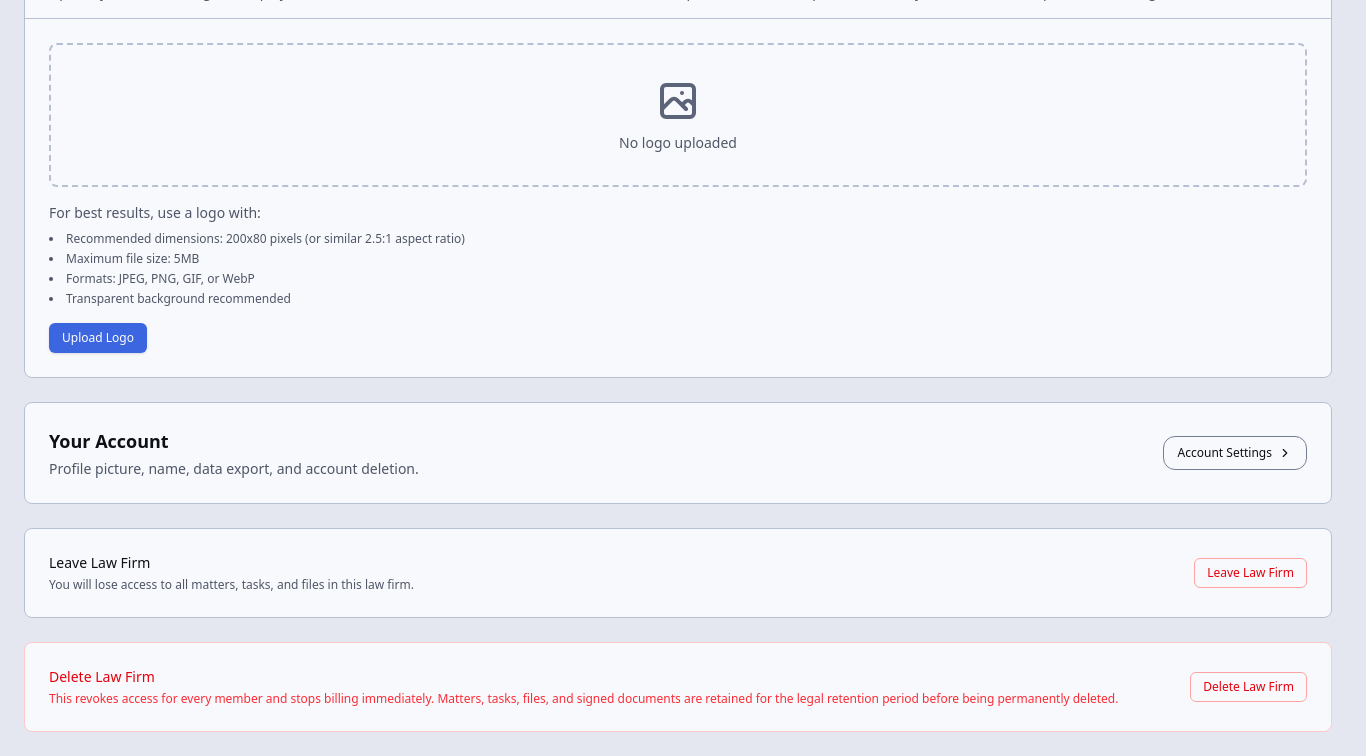
Test: shows a refused transfer inside the transfer dialog, which stays open
The image size is (1366, 756).
(page scrolled)
Click the button "Leave Law Firm": (1251, 573) [1194, 558, 1307, 588]
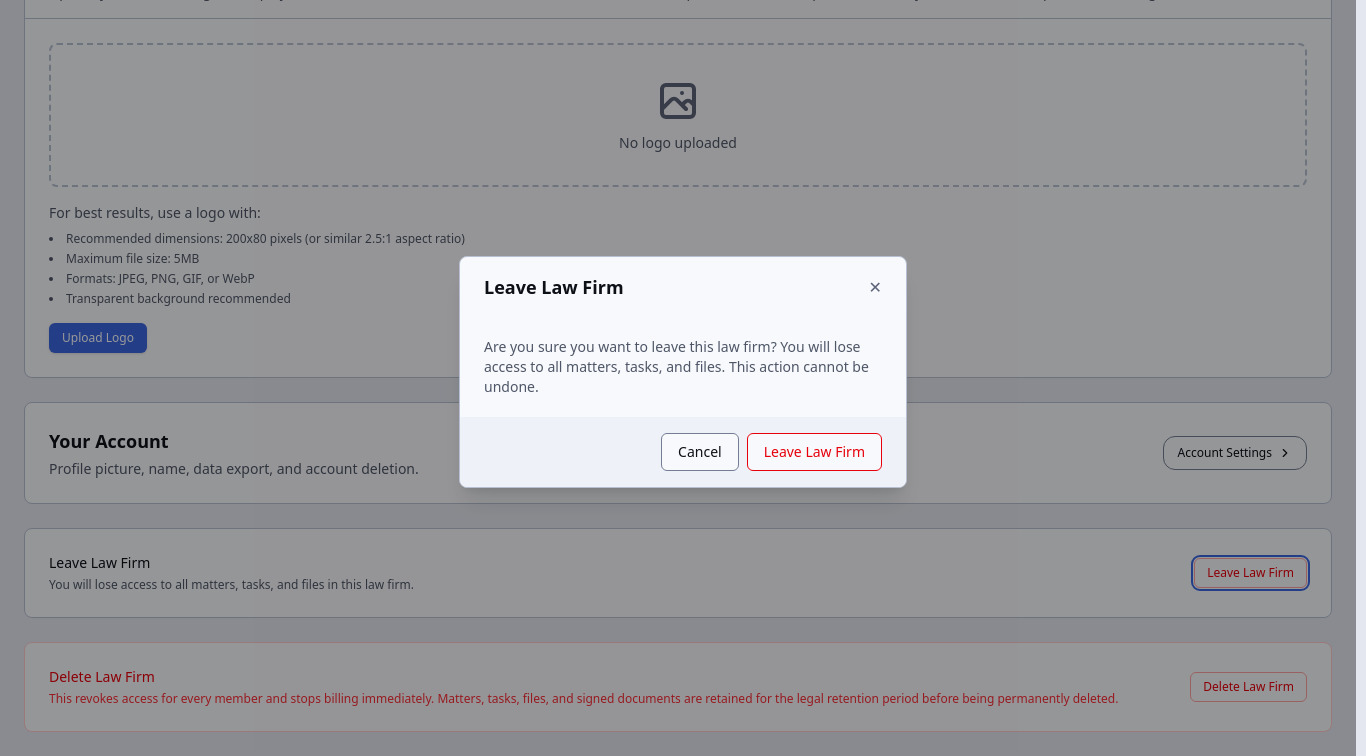
Click the button "Leave Law Firm": (814, 452) [747, 433, 882, 471]
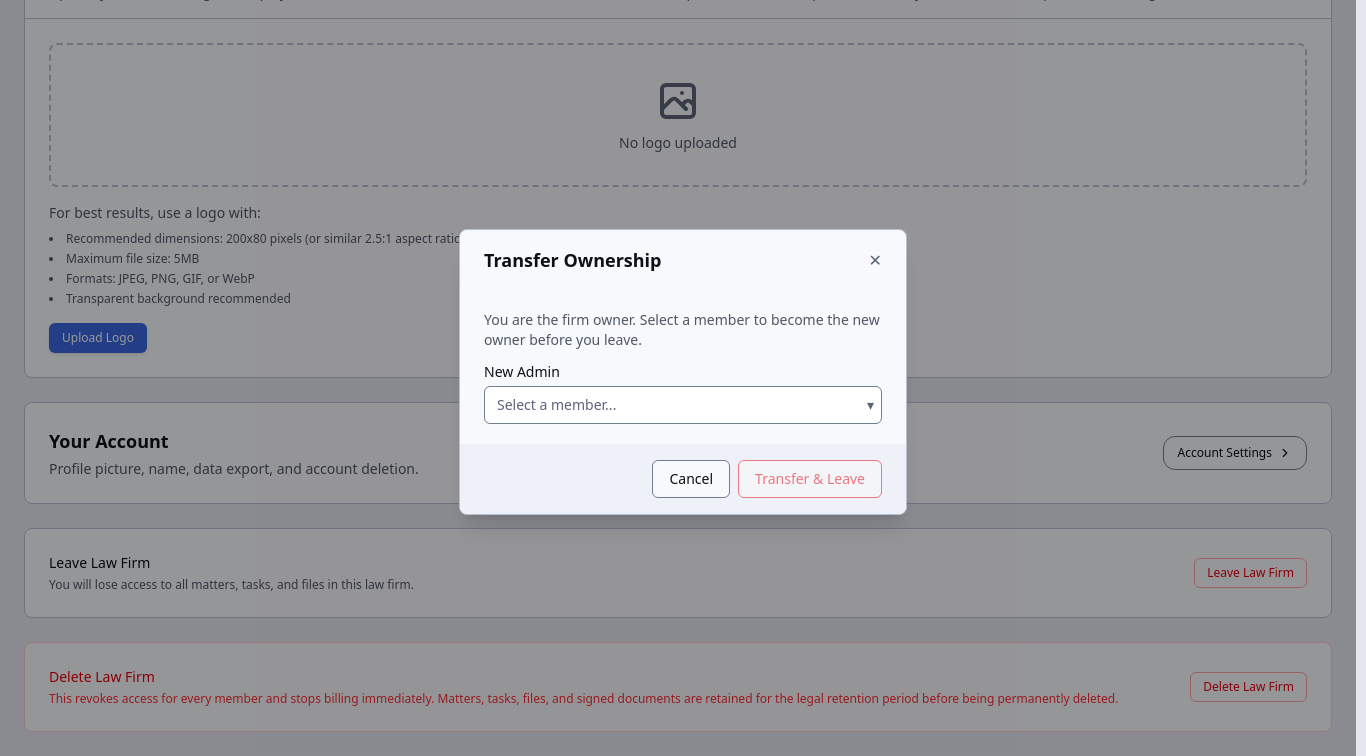
Click the button named "New Admin": (557, 404) [484, 386, 882, 424]
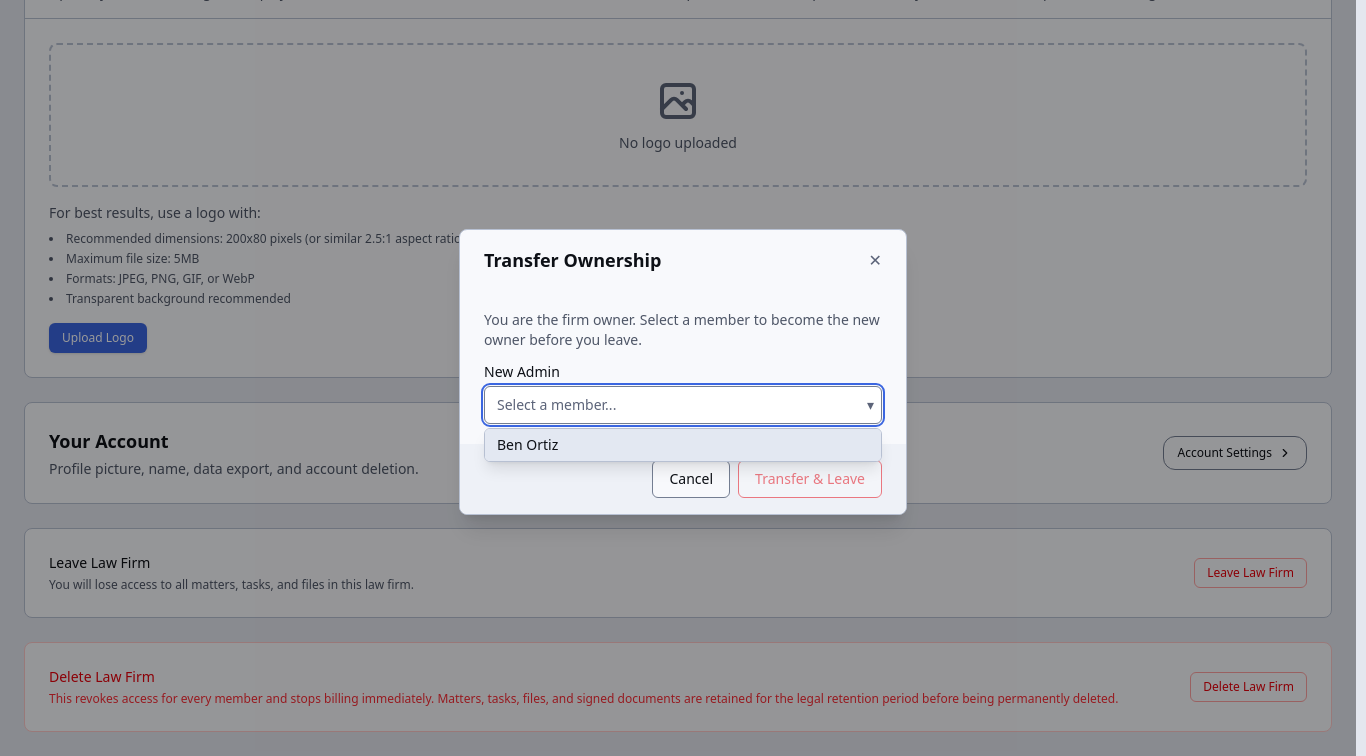
Click the option "Ben Ortiz": (528, 444) [485, 429, 881, 461]
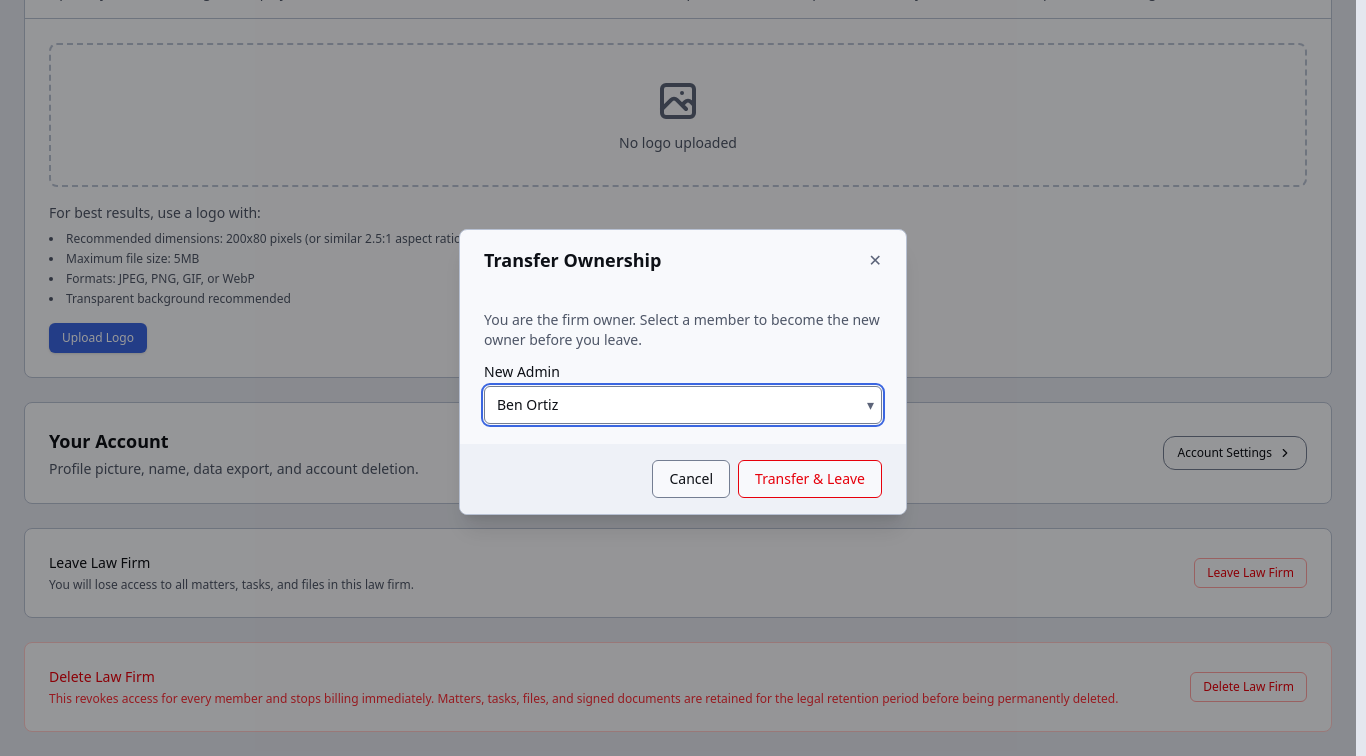
Click the button "Transfer & Leave": (810, 479) [738, 460, 882, 498]
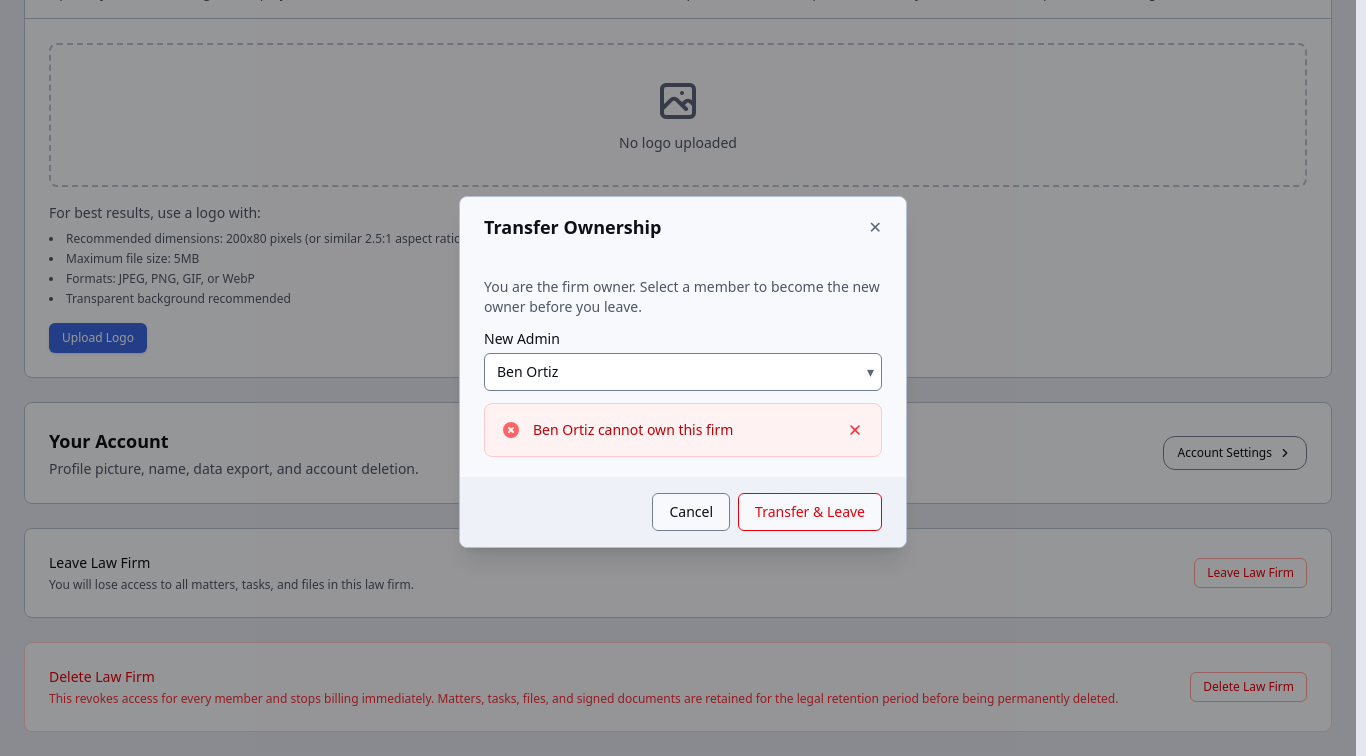
expect the dialog "Transfer Ownership" is shown: met, box [459, 196, 907, 548]
expect the message reads "Ben Ortiz cannot own this firm": met, box [533, 420, 733, 439]
expect the text "Ben Ortiz cannot own this firm" is shown once: met, box [533, 420, 733, 439]
